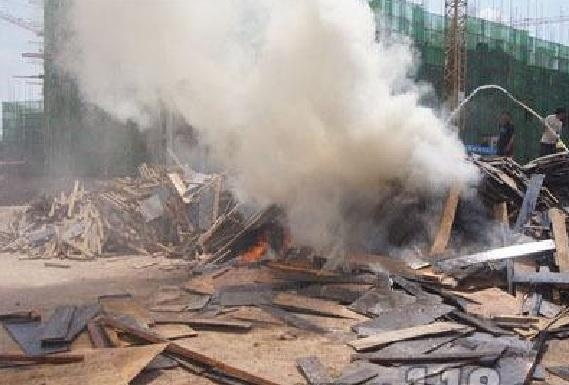fire: (237, 237, 269, 263)
